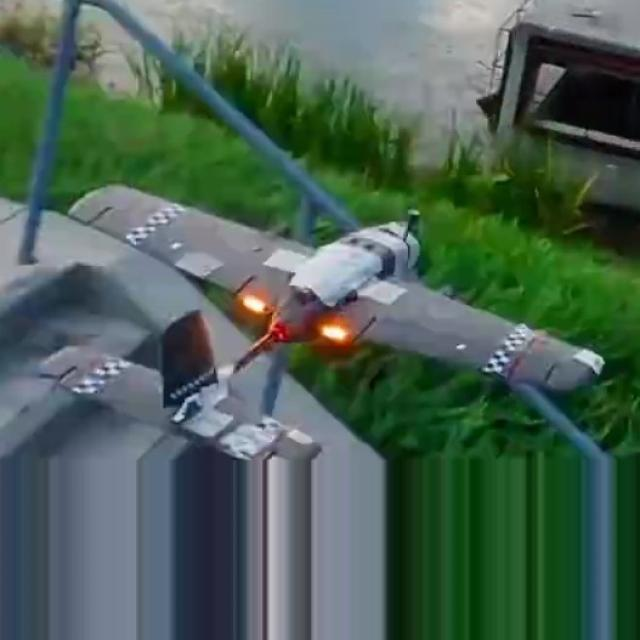iha: (36, 180, 604, 460)
